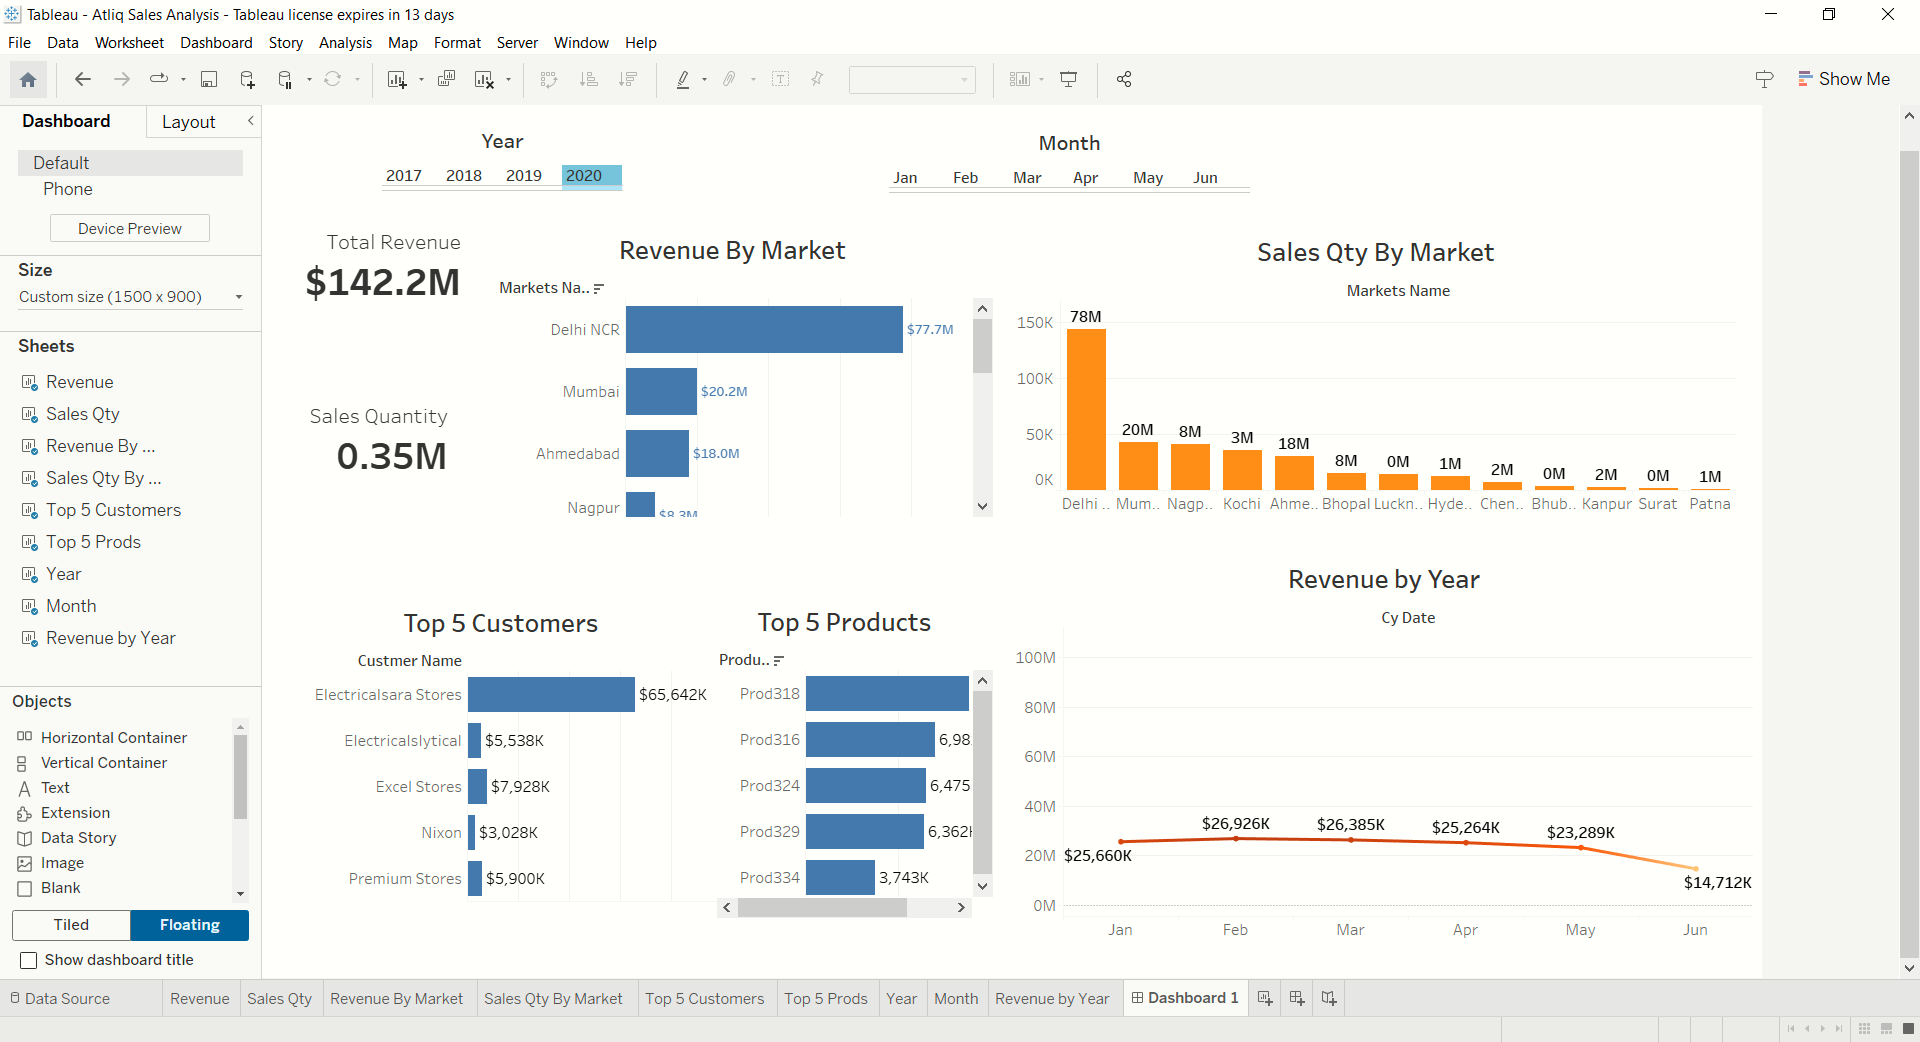

This screenshot's page, from the dashboard's own definition file:
{"tool":"tableau","page":{"name":"Dashboard 1","canvas":[1500,900],"ordinal":0},"visuals":[{"type":"worksheet","title":"Year","mark":"Automatic","cols":["cy_date"],"box":[120,44,246,79]},{"type":"worksheet","title":"Month","mark":"Automatic","cols":["cy_date"],"box":[627,46,721,78]},{"type":"worksheet","title":"Revenue","mark":"Automatic","box":[23,149,184,84]},{"type":"worksheet","title":"Revenue By Market","mark":"Automatic","rows":["markets_name"],"cols":["Calculation_289356319316553728"],"box":[231,150,500,289]},{"type":"worksheet","title":"Sales Qty By Market","mark":"Automatic","rows":["sales_qty"],"cols":["markets_name"],"box":[754,152,720,294]},{"type":"worksheet","title":"Sales Qty","mark":"Automatic","box":[30,323,164,79]},{"type":"worksheet","title":"Revenue by Year","mark":"Automatic","rows":["Calculation_289356319316553728"],"cols":["cy_date"],"box":[753,479,738,397]},{"type":"worksheet","title":"Top 5 Prods","mark":"Automatic","rows":["product_code"],"cols":["Calculation_289356319316553728"],"box":[455,522,276,318]},{"type":"worksheet","title":"Top 5 Customers","mark":"Automatic","rows":["custmer_name"],"cols":["Calculation_289356319316553728"],"box":[21,523,436,314]}]}

Visuals, with their boxes on the page's 1500x900 design canvas (x1, y1, x2, y2). These are canvas units, not pixel positions in the 1920x1042 screenshot, which may show the page scaled, cropped or inside an application window:
"Year" worksheet: x1=120, y1=44, x2=366, y2=123
"Month" worksheet: x1=627, y1=46, x2=1348, y2=124
"Revenue" worksheet: x1=23, y1=149, x2=207, y2=233
"Revenue By Market" worksheet: x1=231, y1=150, x2=731, y2=439
"Sales Qty By Market" worksheet: x1=754, y1=152, x2=1474, y2=446
"Sales Qty" worksheet: x1=30, y1=323, x2=194, y2=402
"Revenue by Year" worksheet: x1=753, y1=479, x2=1491, y2=876
"Top 5 Prods" worksheet: x1=455, y1=522, x2=731, y2=840
"Top 5 Customers" worksheet: x1=21, y1=523, x2=457, y2=837
